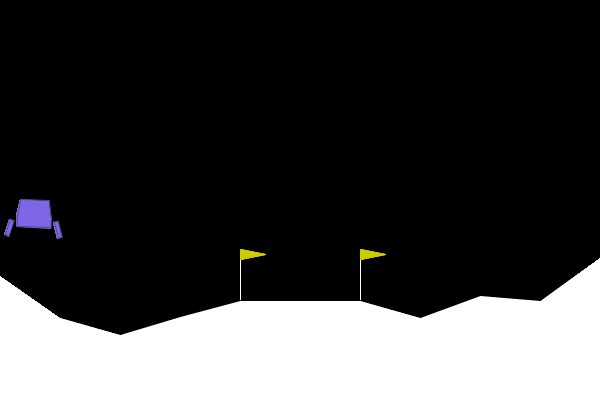lander: (3, 197, 65, 239)
